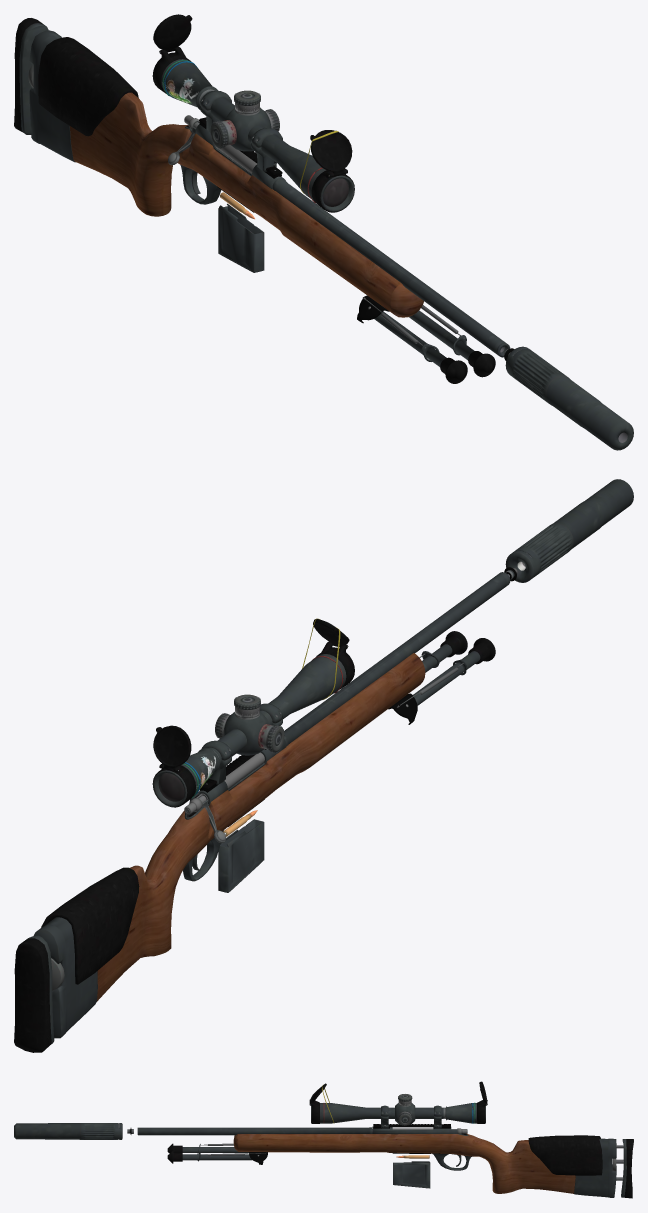
The picture shows the model from 3 angles, top to bottom: view 1: azimuth 30°, elevation 25°; view 2: azimuth 150°, elevation 25°; view 3: azimuth 270°, elevation 25°; orthographic projection. The views are drawn at different scales.
Parts seen in each view (by area): view 1: M24_LowPoly_high; view 2: M24_LowPoly_high; view 3: M24_LowPoly_high.
Boxes of the visible parts, x1,y1,x2,y2 form: M24_LowPoly_high: (14,14,633,450); M24_LowPoly_high: (14,479,633,1052); M24_LowPoly_high: (14,1081,633,1198).
Size of the model in its own units: 0.1135 by 0.4065 by 2.
Materials: 1 (1 with a texture image).
